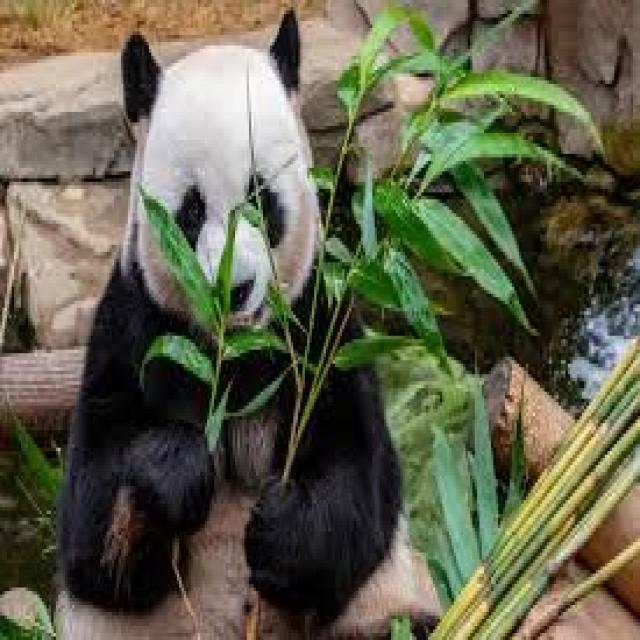Panda: (51, 23, 396, 640)
